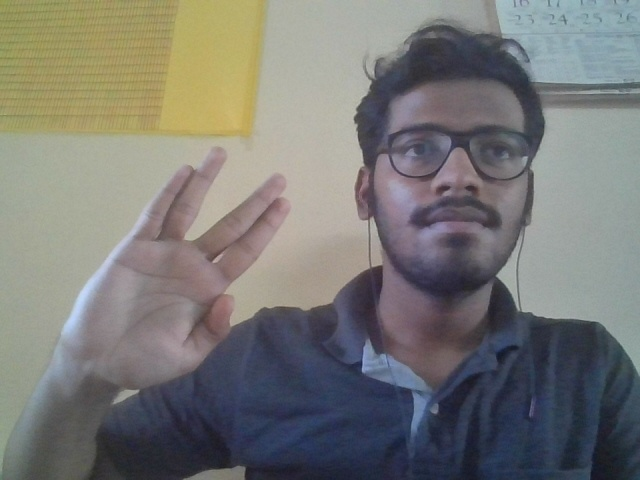LiveLong: (62, 143, 292, 387)
